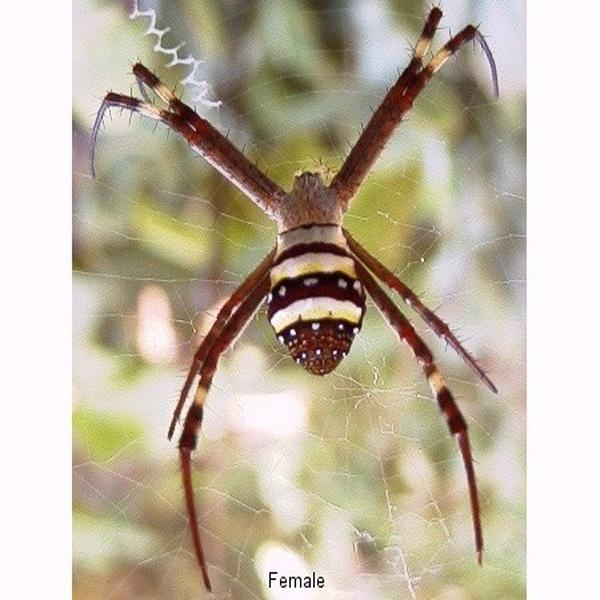St Andrew's Cross Spider: (112, 17, 489, 567)
